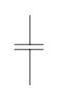Capacitor: (10, 30, 44, 58)
